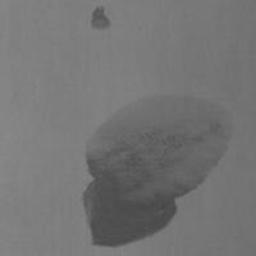Oil spot: (81, 93, 234, 250), (90, 5, 111, 31)
